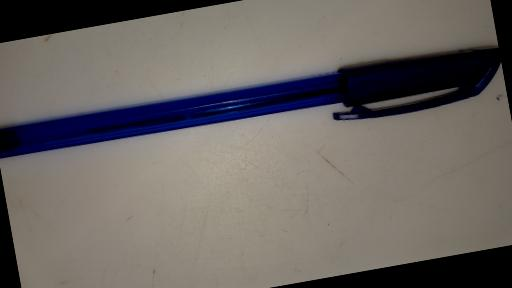pen: (0, 37, 507, 184)
